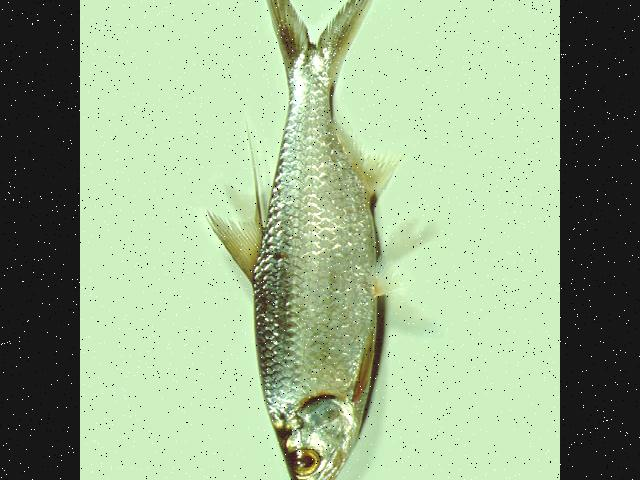Mulut: (281, 463, 342, 480)
Sirip Anal: (326, 110, 404, 196)
Sirip Dada: (342, 313, 386, 404)
Sirip Ekor: (254, 0, 387, 71)
Sirip Perut: (358, 208, 442, 294)
Sirip Punggung: (198, 115, 276, 292)
